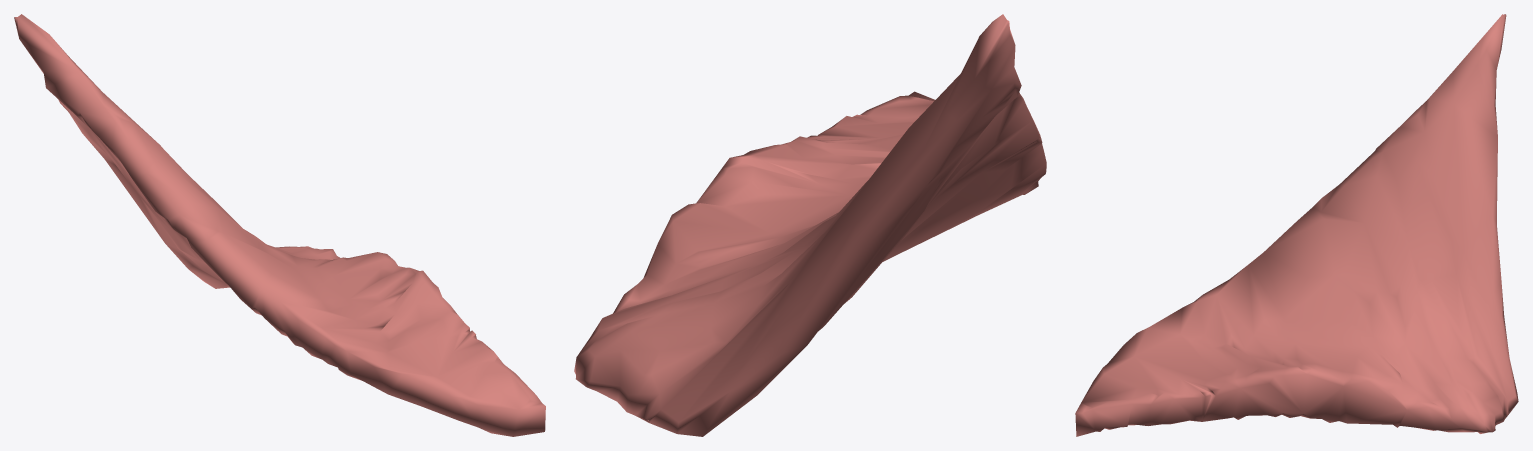
3 renders of one model, left to right at view 1: azimuth 30°, elevation 25°; view 2: azimuth 150°, elevation 25°; view 3: azimuth 270°, elevation 25°, orthographic. The views are drawn at different scales.
Visible parts, largest first — view 1: ZA_588f01873ed1ddac; view 2: ZA_588f01873ed1ddac; view 3: ZA_588f01873ed1ddac.
Boxes of the visible parts, bbox=[...] form: ZA_588f01873ed1ddac: bbox=[14, 14, 545, 436]; ZA_588f01873ed1ddac: bbox=[574, 14, 1046, 436]; ZA_588f01873ed1ddac: bbox=[1075, 14, 1518, 436].
Bounding box in the file's own units: 0.0269 × 0.028 × 0.0378.
